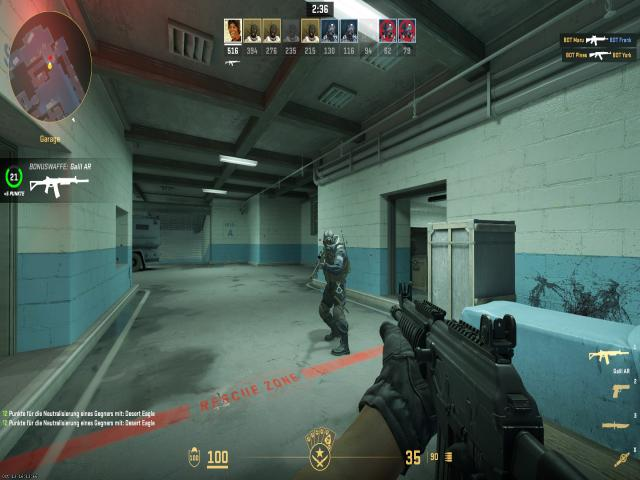CT: (321, 230, 347, 342)
CT-Head: (322, 229, 336, 252)
